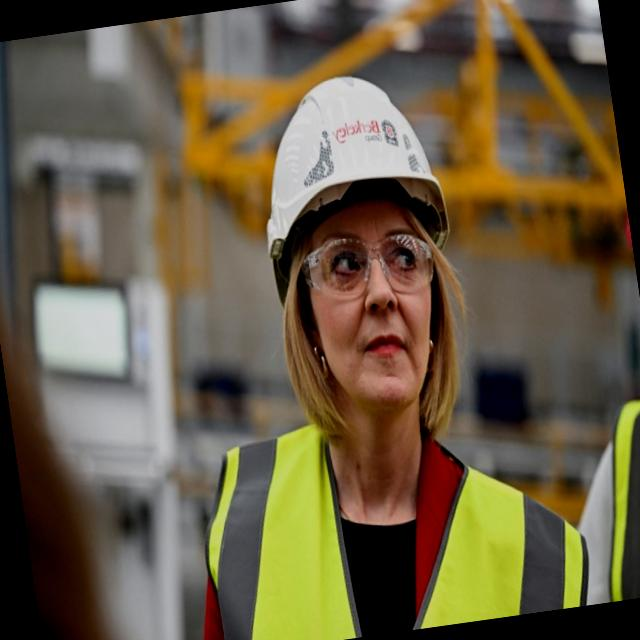goggles: (289, 222, 440, 311)
helmet: (245, 60, 458, 310)
vest: (183, 380, 598, 640)
